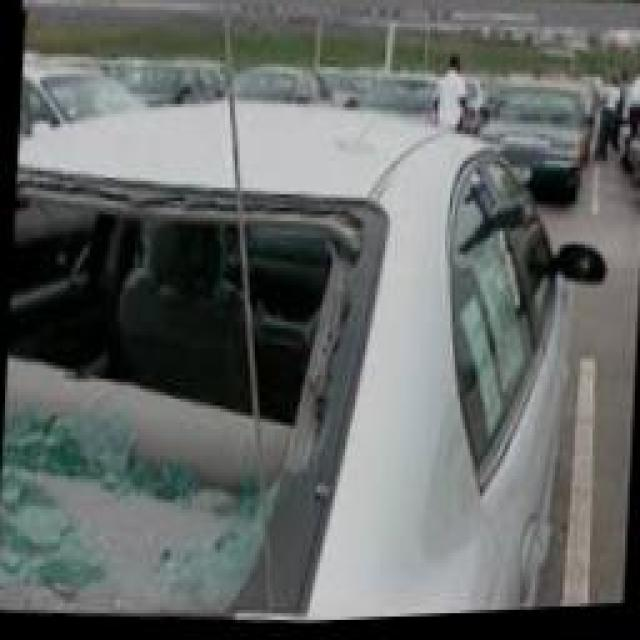replaceable: (8, 196, 363, 616)
